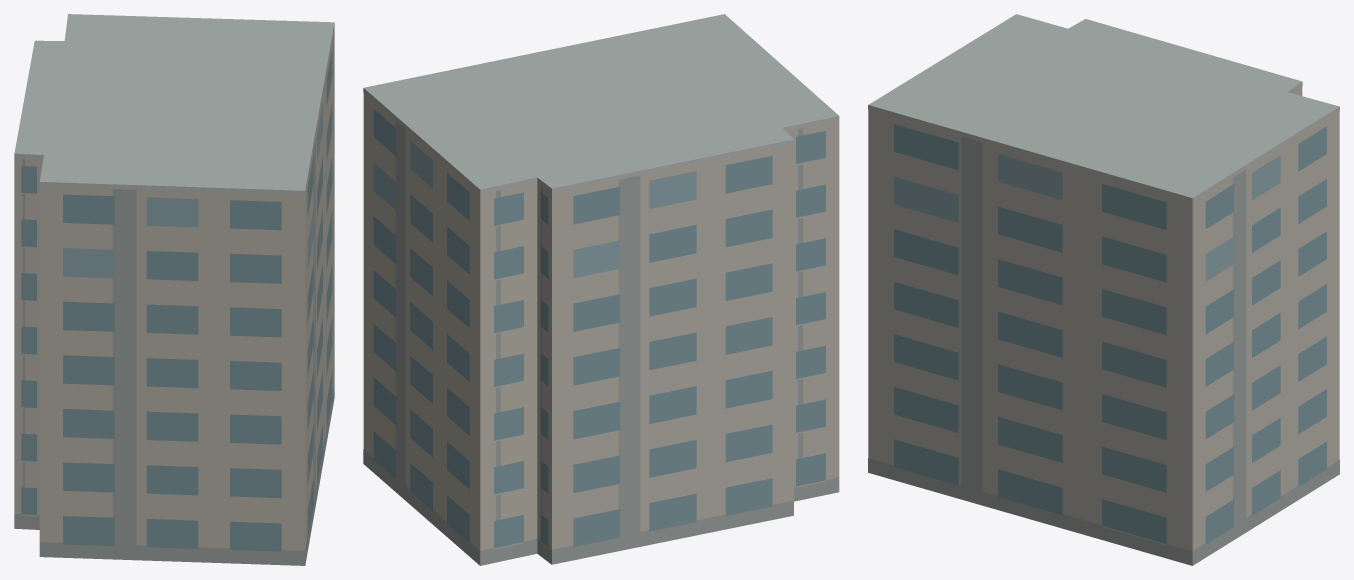
Rendered from survey-upis-32891833.glb.
The picture shows the model from 3 angles, left to right: view 1: azimuth 30°, elevation 25°; view 2: azimuth 150°, elevation 25°; view 3: azimuth 270°, elevation 25°; orthographic projection. The views are drawn at different scales.
Parts seen in each view (by area): view 1: survey-upis-32891833.tmp; view 2: survey-upis-32891833.tmp; view 3: survey-upis-32891833.tmp.
Part boxes in pixels (x1=…): survey-upis-32891833.tmp: x1=14, y1=14, x2=334, y2=565; survey-upis-32891833.tmp: x1=363, y1=14, x2=839, y2=565; survey-upis-32891833.tmp: x1=868, y1=14, x2=1339, y2=565.
Size of the model in its own units: 20.51 by 19.1 by 22.2.
